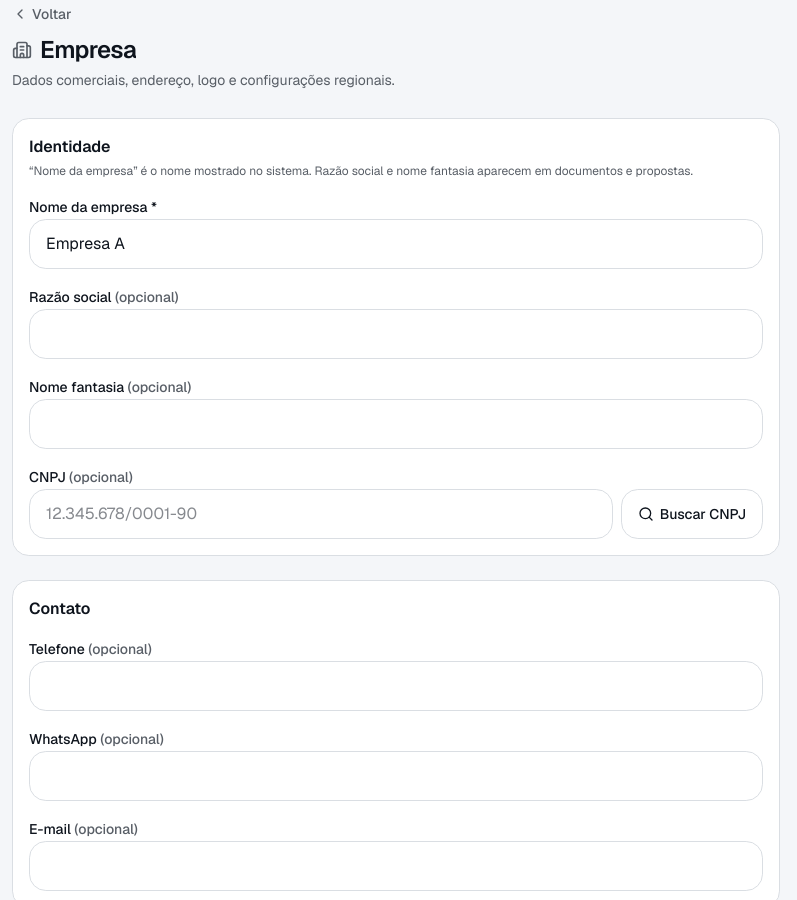
Test: CompanyProfilePage CNPJ lookup (FRONTEND-COMPANY-PROFILE-01 §54 CJ1-CJ8) › CJ6: the second lookup wins over a late-resolving first one
Expected: the field labelled "Nome da empresa *" is shown, left=29, top=219, right=763, bottom=269
Type "19131243000197" into the field labelled "CNPJ (opcional)".
click(321, 514); type("19131243000197")  # box left=29, top=489, right=613, bottom=539
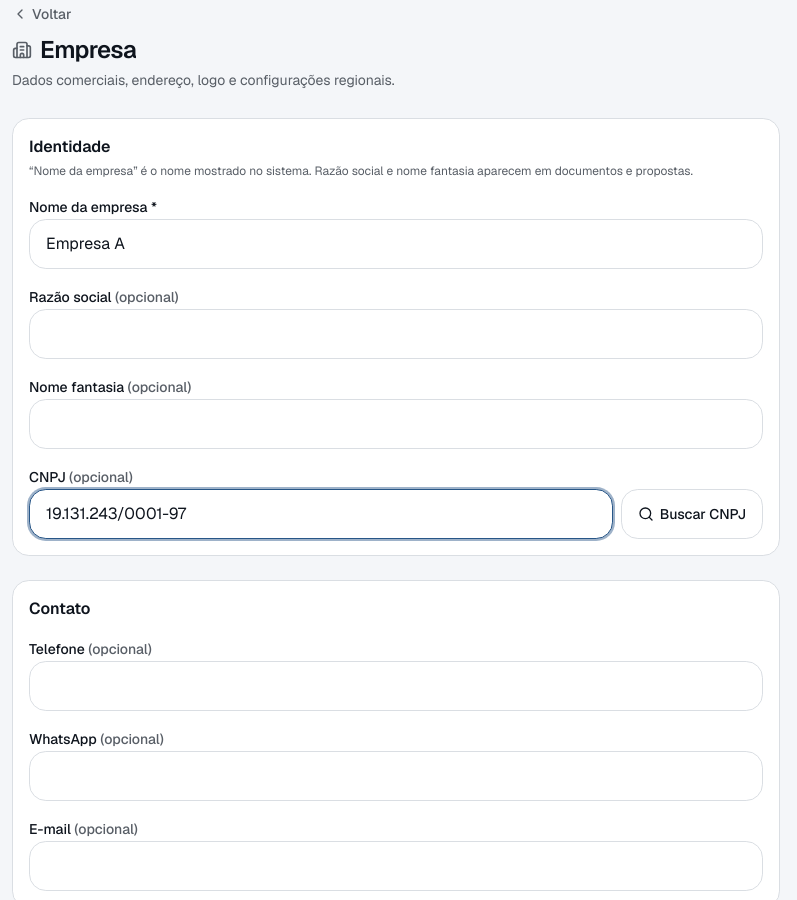
Click the button "Buscar CNPJ".
click(692, 514)  # box left=621, top=489, right=763, bottom=539
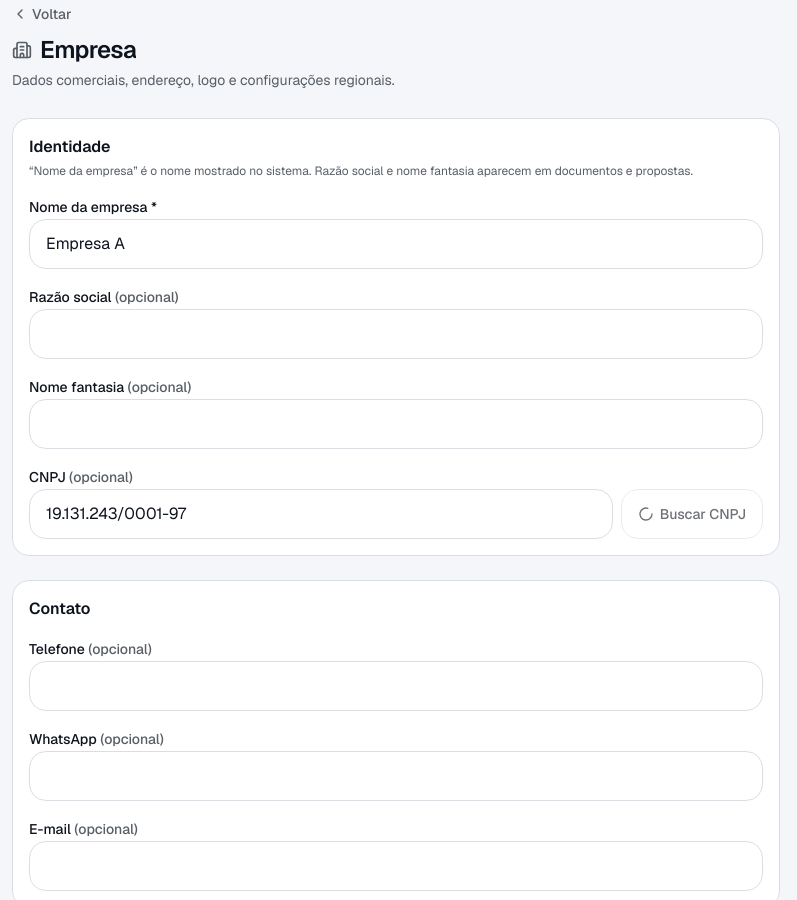
Now the button "Buscar CNPJ" is disabled, box left=621, top=489, right=763, bottom=539
Replace the text in the field labelled "CNPJ (opcional)" with "19131243000197" at (321, 514), box left=29, top=489, right=613, bottom=539
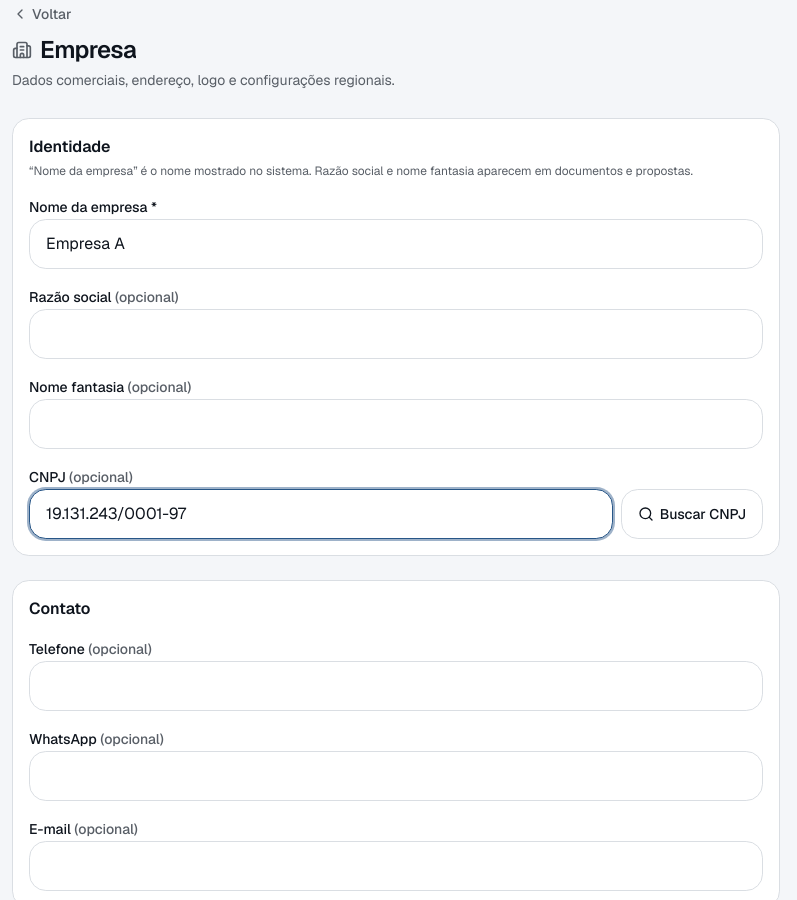
Now the button "Buscar CNPJ" is enabled
Click the button "Buscar CNPJ".
click(692, 514)  # box left=621, top=489, right=763, bottom=539
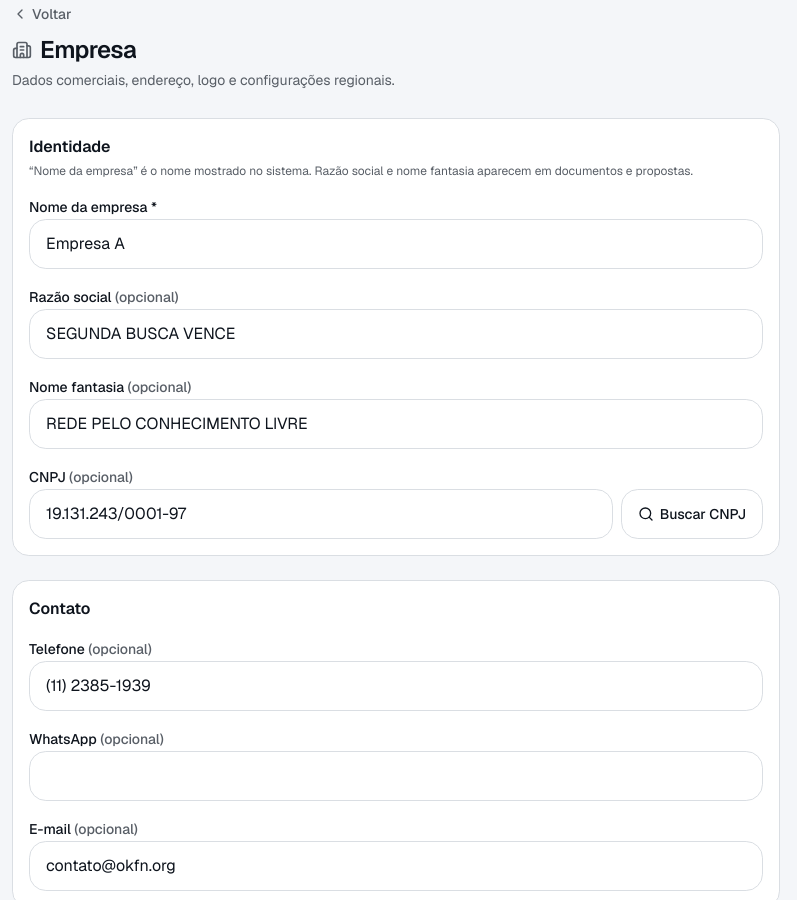
Now the field labelled "Razão social (opcional)" holds "SEGUNDA BUSCA VENCE", box left=29, top=309, right=763, bottom=359
